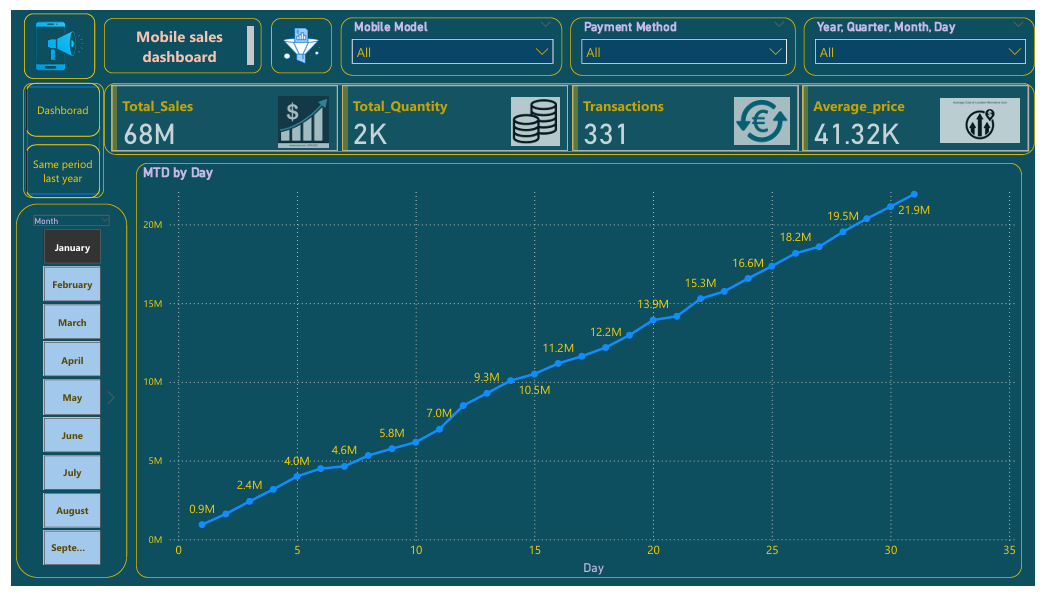

What the dashboard file says about the page in this screenshot:
{"tool":"powerbi","page":{"name":"MTD Report","canvas":[1280,720],"ordinal":1},"visuals":[{"type":"shape","box":[15.1,90.7,100.8,144.5],"z":1000},{"type":"cardVisual","fields":{"Data":["Sales_Data.Total_Sales","Sales_Data.Total_Quantity","Sales_Data.Transactions","Sales_Data.Average_price"]},"box":[116.2,90.7,1163.6,90.7],"z":3000},{"type":"slicer","fields":{"Values":["Sales_Data.Mobile Model"]},"box":[412.4,8.5,276.4,73.7],"z":4000},{"type":"slicer","fields":{"Values":["Sales_Data.Payment Method"]},"box":[698.7,8.5,282,73.7],"z":5000},{"type":"slicer","fields":{"Values":["Query1.Date.Variation.Date Hierarchy.Year","Query1.Date.Variation.Date Hierarchy.Quarter","Query1.Date.Variation.Date Hierarchy.Month","Query1.Date.Variation.Date Hierarchy.Day"]},"box":[990.7,8.5,289.1,73.7],"z":6000},{"type":"image","box":[324.6,9.9,76.5,69.4],"z":7000},{"type":"textbox","box":[116.2,9.9,197,69.4],"z":8000},{"type":"lineChart","fields":{"Y":["Sales_Data.MTD"],"Category":["Query1.Date.Variation.Date Hierarchy.Year","Query1.Date.Variation.Date Hierarchy.Quarter","Query1.Date.Variation.Date Hierarchy.Month","Query1.Date.Variation.Date Hierarchy.Day"]},"box":[155.9,191.3,1108.3,518.7],"z":8001},{"type":"slicer","fields":{"Values":["Query1.Date.Variation.Date Hierarchy.Month"]},"box":[5.7,242.4,138.9,467.7],"z":8002},{"type":"pageNavigator","box":[18.4,90.7,92.1,144.6],"z":8003},{"type":"image","box":[15.6,4.3,89.3,82.2],"z":8004}]}

Visuals, with their boxes in screenshot pixels (x1, y1, x2, y2), scaled from the page's 1280x720 canvas onto the 1051x597 screenshot:
shape: BBox(12, 75, 95, 195)
cardVisual - Sales_Data.Total_Sales x Sales_Data.Total_Quantity: BBox(95, 75, 1050, 150)
slicer - Sales_Data.Mobile Model: BBox(339, 7, 566, 68)
slicer - Sales_Data.Payment Method: BBox(574, 7, 805, 68)
slicer - Query1.Date.Variation.Date Hierarchy.Year x Query1.Date.Variation.Date Hierarchy.Quarter: BBox(813, 7, 1050, 68)
image: BBox(267, 8, 329, 66)
textbox: BBox(95, 8, 257, 66)
lineChart - Sales_Data.MTD x Query1.Date.Variation.Date Hierarchy.Year: BBox(128, 159, 1038, 589)
slicer - Query1.Date.Variation.Date Hierarchy.Month: BBox(5, 201, 119, 589)
pageNavigator: BBox(15, 75, 91, 195)
image: BBox(13, 4, 86, 72)
